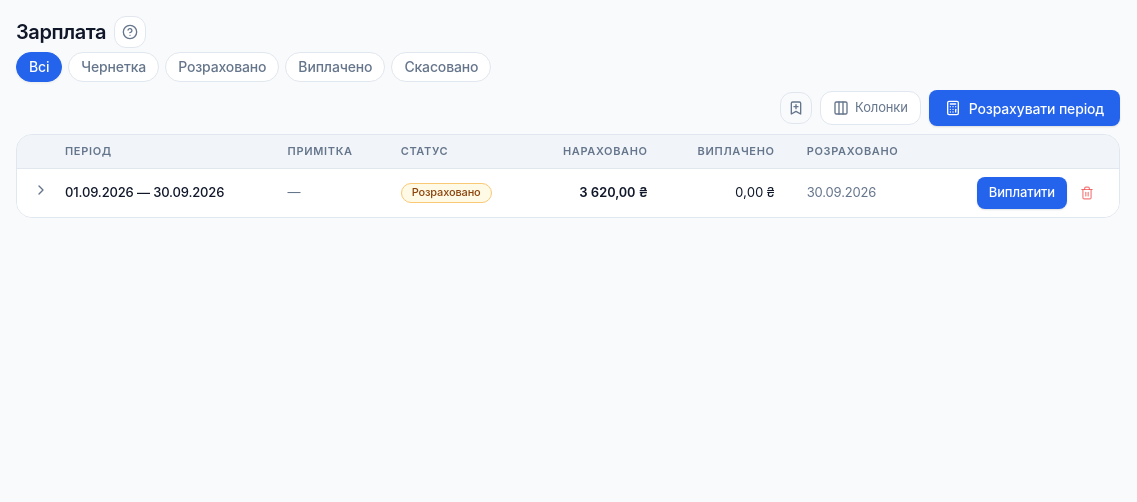
Scenario: Payroll — розшифровка по нарядах (drill-down) › розкриття співробітника показує таблицю нарядів; tfoot «Разом» = line.baseAmount
The width and height of the screenshot is (1137, 502).
// Розгортаємо період (перша кнопка-стрілка «Розгорнути»).
Click the button named "Розгорнути" at (41, 190), box 33,182 -> 49,198
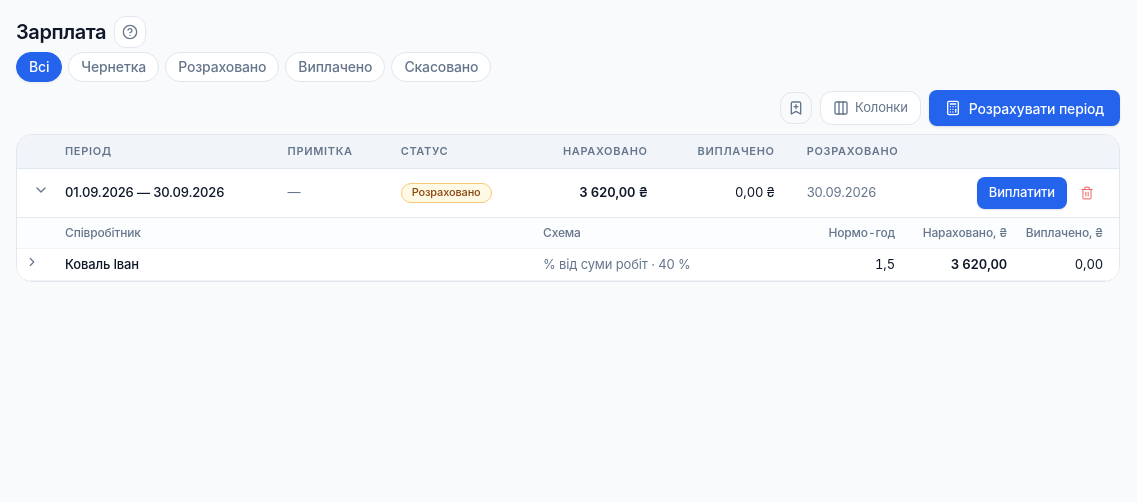
// Розгортаємо рядок співробітника («Показати наряди»).
Click the button named "Показати наряди" at (32, 262), box 25,254 -> 39,268
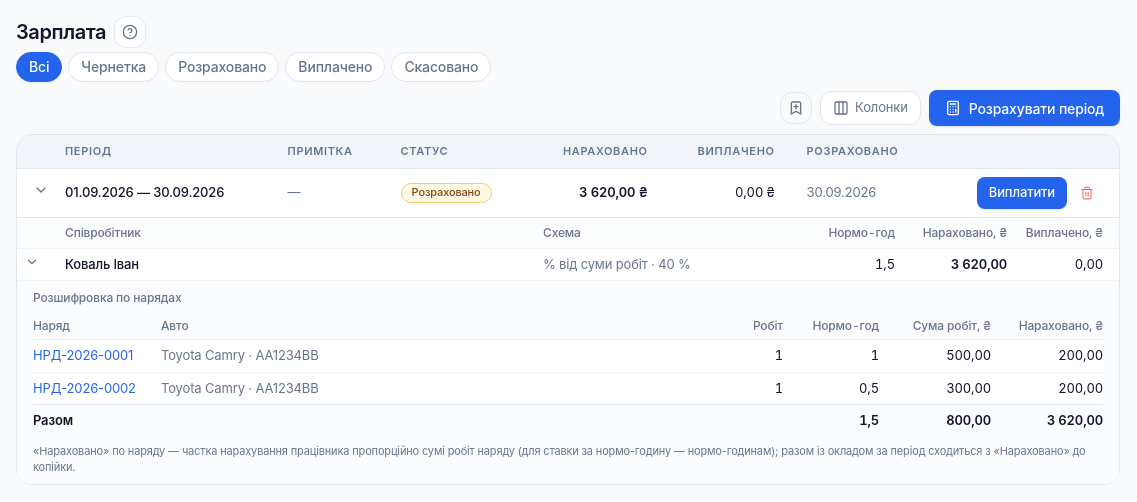
Check: the text "800,00" is shown, box 879,404 -> 991,436
